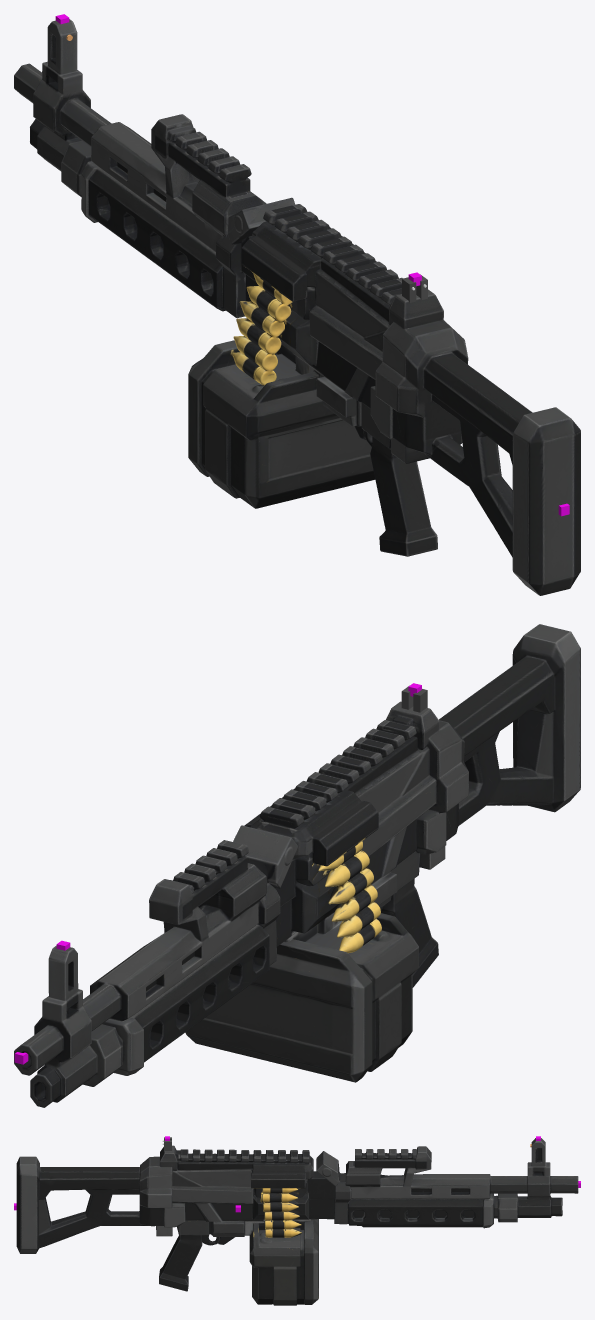
Rendered from LMG.glb.
3 renders of one model, top to bottom at view 1: azimuth 30°, elevation 25°; view 2: azimuth 150°, elevation 25°; view 3: azimuth 270°, elevation 25°, orthographic. The views are drawn at different scales.
Parts seen in each view (by area): view 1: Skin_Body_16, Skin_Body_12, Skin_Body_15, Skin_Body_03, Magazine_02, Skin_Body_02, Skin_Body_05, Skin_Body_04, Skin_Body_01, Skin_Body_13, Skin_Body_14, Skin_Body_06 (+9 smaller); view 2: Magazine_01, Skin_Body_16, Skin_Body_03, Skin_Body_01, Skin_Body_15, Skin_Body_14, Skin_Body_02, Skin_Body_05, Magazine_02, Skin_Body_07, Skin_Cover_01, Skin_Body_04 (+9 smaller); view 3: Skin_Body_16, Skin_Body_15, Skin_Body_03, Skin_Body_14, Skin_Body_05, Skin_Body_02, Magazine_02, Skin_Body_13, Skin_Body_06, Skin_Body_12, Skin_Body_01, Skin_Body_04 (+9 smaller).
Part boxes in pixels (x1,y1,x2,y2): Skin_Body_16: (450, 372, 580, 595); Skin_Body_12: (246, 261, 376, 502); Skin_Body_15: (375, 274, 483, 556); Skin_Body_03: (95, 114, 190, 262); Magazine_02: (205, 356, 375, 508); Skin_Body_02: (47, 74, 145, 224); Skin_Body_05: (173, 144, 248, 304); Skin_Body_04: (148, 120, 215, 281); Skin_Body_01: (14, 19, 90, 171); Skin_Body_13: (328, 286, 379, 481); Skin_Body_14: (356, 294, 422, 554); Skin_Body_06: (207, 168, 266, 355); Magazine_01: (185, 934, 392, 1082); Skin_Body_16: (458, 624, 580, 812); Skin_Body_03: (106, 879, 205, 1060); Skin_Body_01: (14, 945, 95, 1107); Skin_Body_15: (394, 685, 497, 969); Skin_Body_14: (386, 706, 446, 987); Skin_Body_02: (75, 967, 153, 1086); Skin_Body_05: (192, 840, 264, 1009); Magazine_02: (307, 921, 418, 1067); Skin_Body_07: (244, 815, 354, 964); Skin_Cover_01: (252, 765, 360, 839); Skin_Body_04: (160, 864, 233, 1023); Skin_Body_16: (16, 1156, 112, 1253); Skin_Body_15: (103, 1137, 174, 1287); Skin_Body_03: (409, 1146, 476, 1227); Skin_Body_14: (167, 1146, 200, 1291); Skin_Body_05: (348, 1149, 394, 1227); Skin_Body_02: (465, 1163, 532, 1228); Magazine_02: (254, 1227, 295, 1305); Skin_Body_13: (192, 1167, 228, 1259); Skin_Body_06: (306, 1149, 363, 1244); Skin_Body_12: (219, 1167, 258, 1299); Skin_Body_01: (521, 1138, 578, 1217); Skin_Body_04: (385, 1147, 427, 1227).
Bounding box in the file's own units: 0.8639 × 1.28 × 4.37.
Materials: 4 (1 with a texture image).
